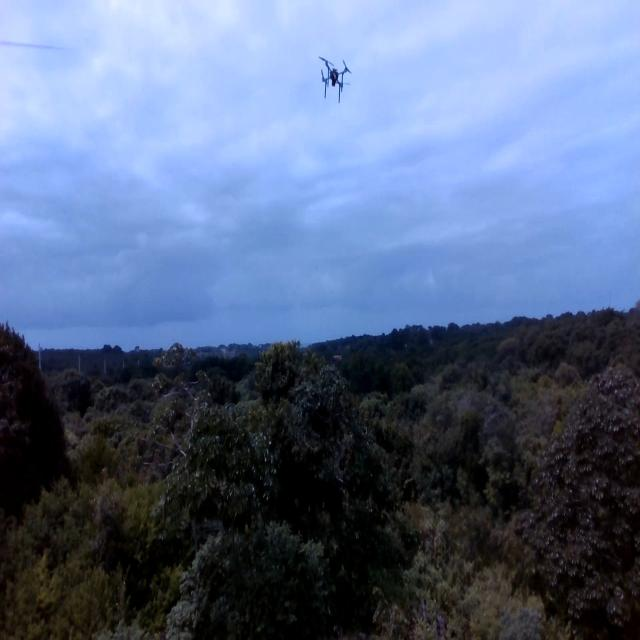-uav-: (313, 46, 354, 104)
